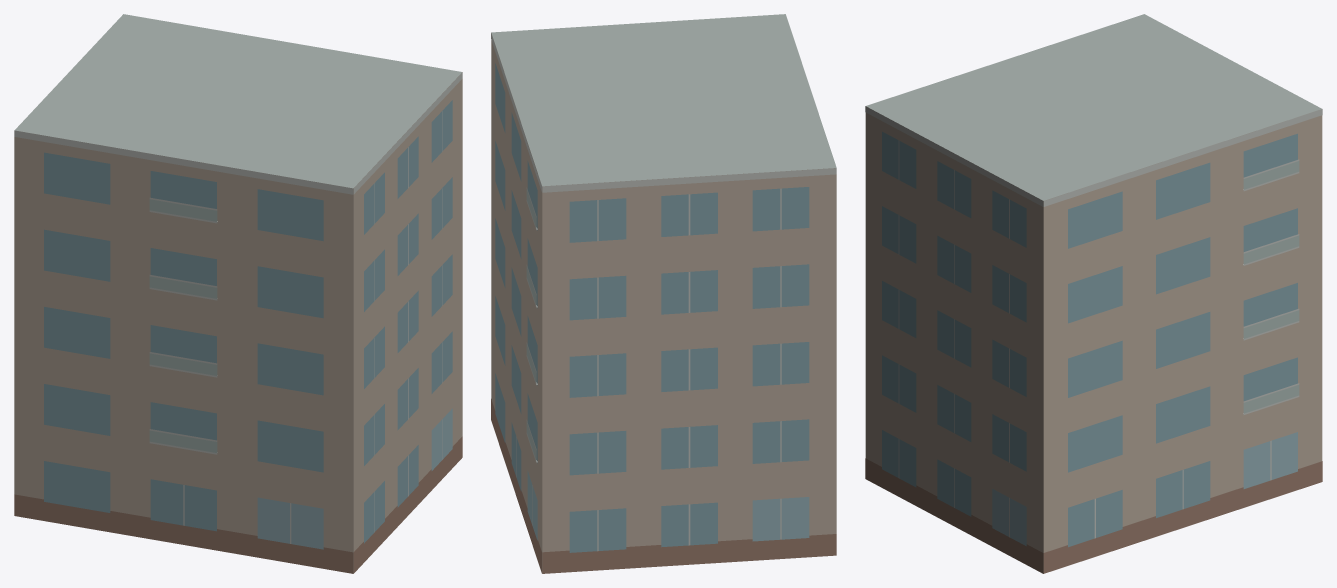
File: survey-upis-33011083.glb
3 renders of one model, left to right at view 1: azimuth 30°, elevation 25°; view 2: azimuth 150°, elevation 25°; view 3: azimuth 270°, elevation 25°, orthographic. The views are drawn at different scales.
Parts seen in each view (by area): view 1: survey-upis-33011083.tmp; view 2: survey-upis-33011083.tmp; view 3: survey-upis-33011083.tmp.
Part boxes in pixels (bbox=[...]): survey-upis-33011083.tmp: bbox=[14, 14, 462, 573]; survey-upis-33011083.tmp: bbox=[491, 14, 836, 573]; survey-upis-33011083.tmp: bbox=[865, 14, 1322, 573].
Size of the model in its own units: 15.7 by 14.6 by 16.22.
